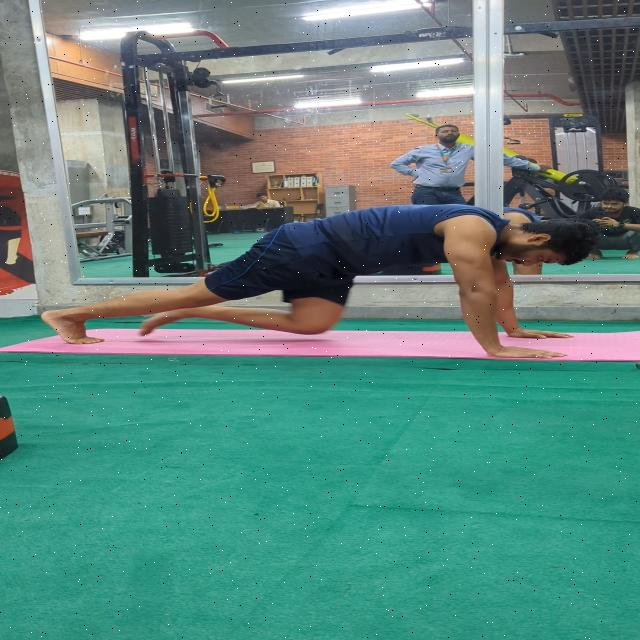Normal_MountainClimbers: (22, 196, 612, 368)
